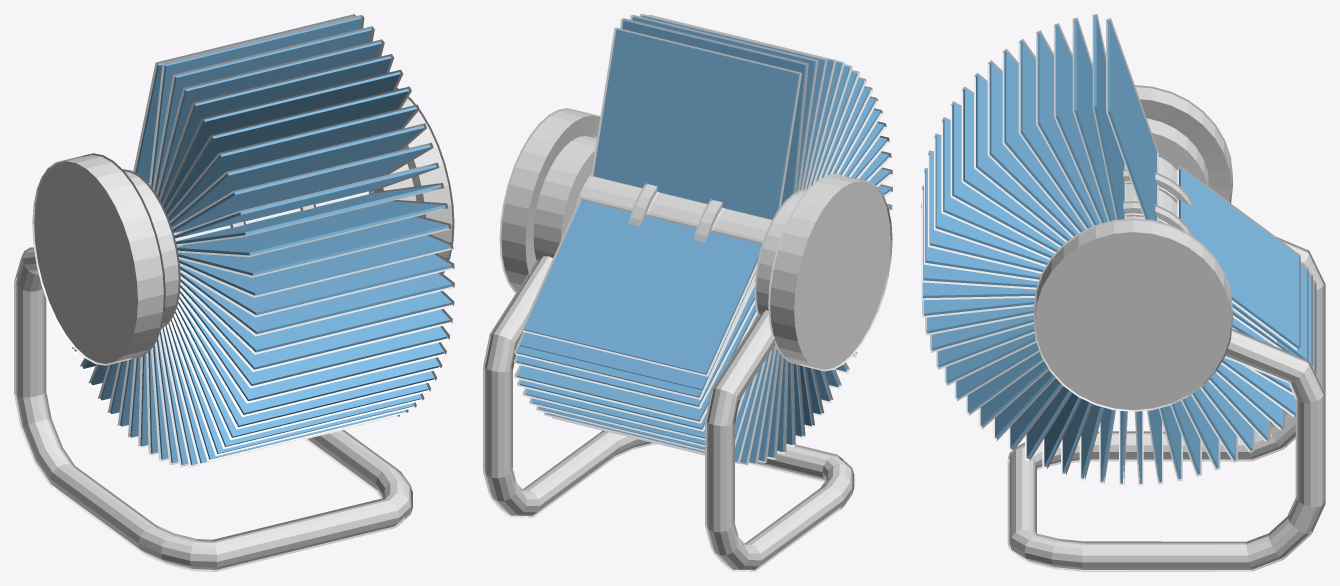
File: rolodexV3.2.glb
3 views of the same model, side by side, from view 1: azimuth 30°, elevation 25°; view 2: azimuth 150°, elevation 25°; view 3: azimuth 270°, elevation 25° (orthographic). The views are drawn at different scales.
Visible parts, largest first — view 1: Static cards, Vert.006, Lead card, Lead card.001, Lead card.002; view 2: Vert.006, Static cards, Lead card.002, Lead card.003, Lead card.001, Lead card; view 3: Static cards, Vert.006, Lead card.003, Lead card.002, Lead card, Lead card.001.
Boxes of the visible parts, <box> form: Static cards: <box>71,39,454,466</box>; Vert.006: <box>14,87,454,571</box>; Lead card: <box>152,26,374,192</box>; Lead card.001: <box>149,15,364,188</box>; Lead card.002: <box>133,14,355,183</box>; Vert.006: <box>483,108,892,571</box>; Static cards: <box>513,14,892,465</box>; Lead card.002: <box>591,27,801,220</box>; Lead card.003: <box>521,198,762,376</box>; Lead card.001: <box>620,18,808,205</box>; Lead card: <box>630,15,818,191</box>; Static cards: <box>921,23,1316,485</box>; Vert.006: <box>1007,85,1325,571</box>; Lead card.003: <box>1177,166,1300,350</box>; Lead card.002: <box>1106,18,1158,221</box>; Lead card: <box>1072,17,1115,221</box>; Lead card.001: <box>1092,14,1126,219</box>.
Size of the model in its own units: 4.53 by 6.57 by 5.29.
